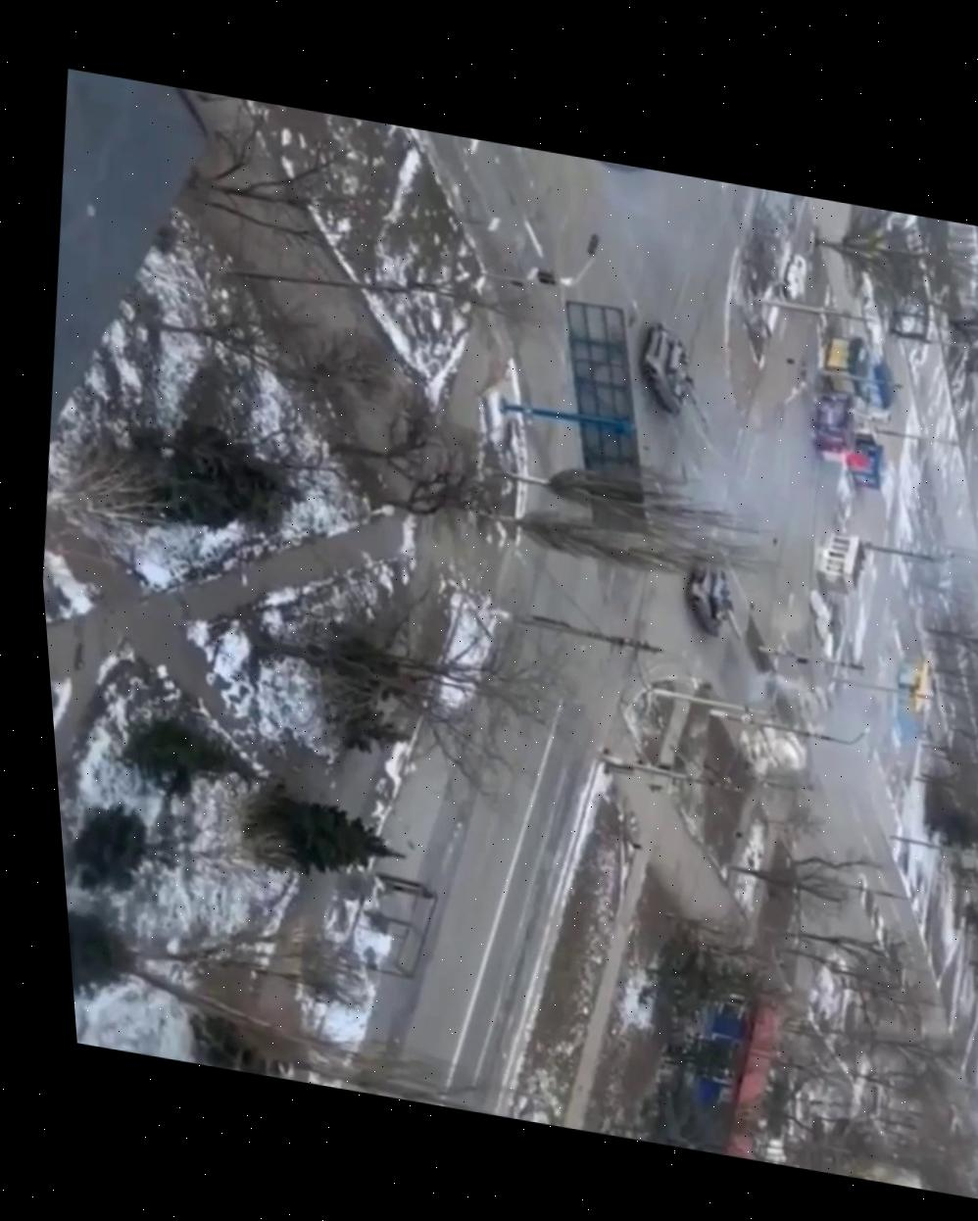tank: (630, 321, 718, 429), (680, 559, 752, 645)
